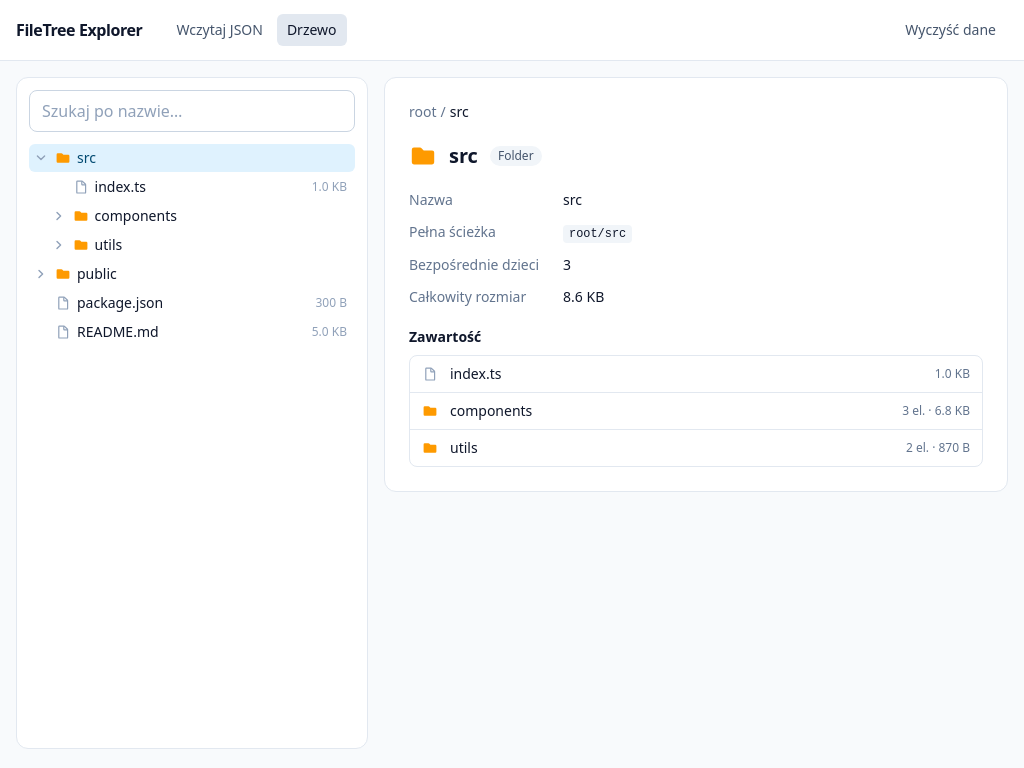
Test: routing › shows folder details with direct children count, subtree size and child links
Click the link "components 3 el. · 6.8 KB": (491, 410) [422,401,970,420]
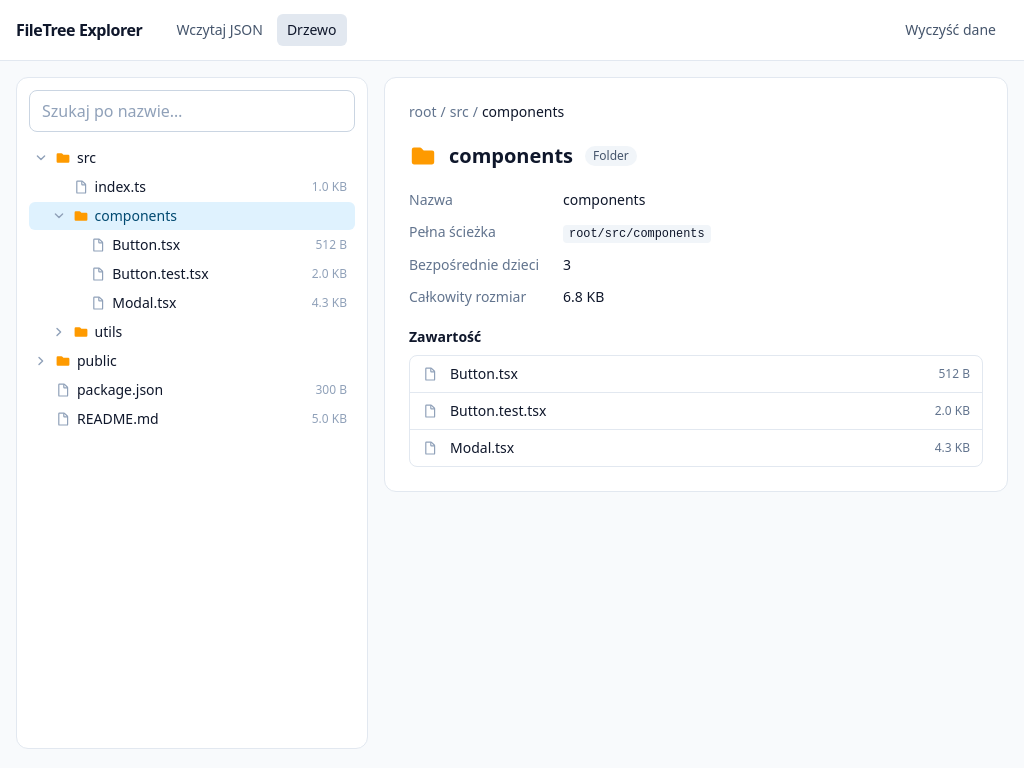
Expected: the heading "components" is shown, [449,142,573,170]
